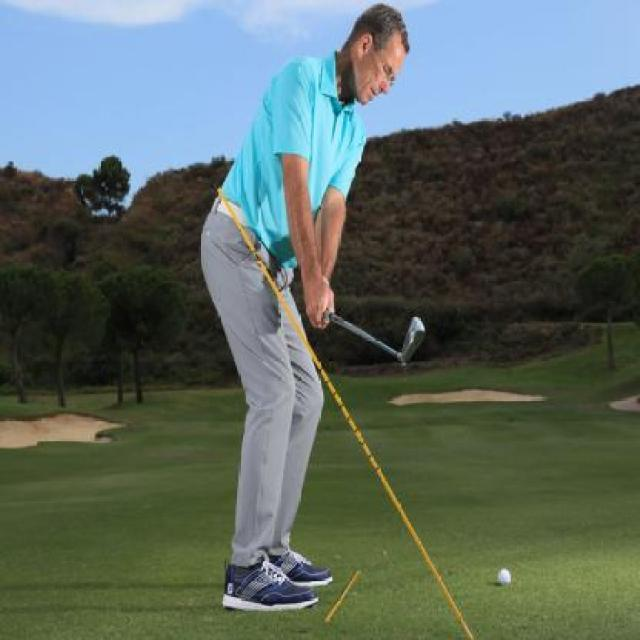club head: (392, 316, 428, 364)
